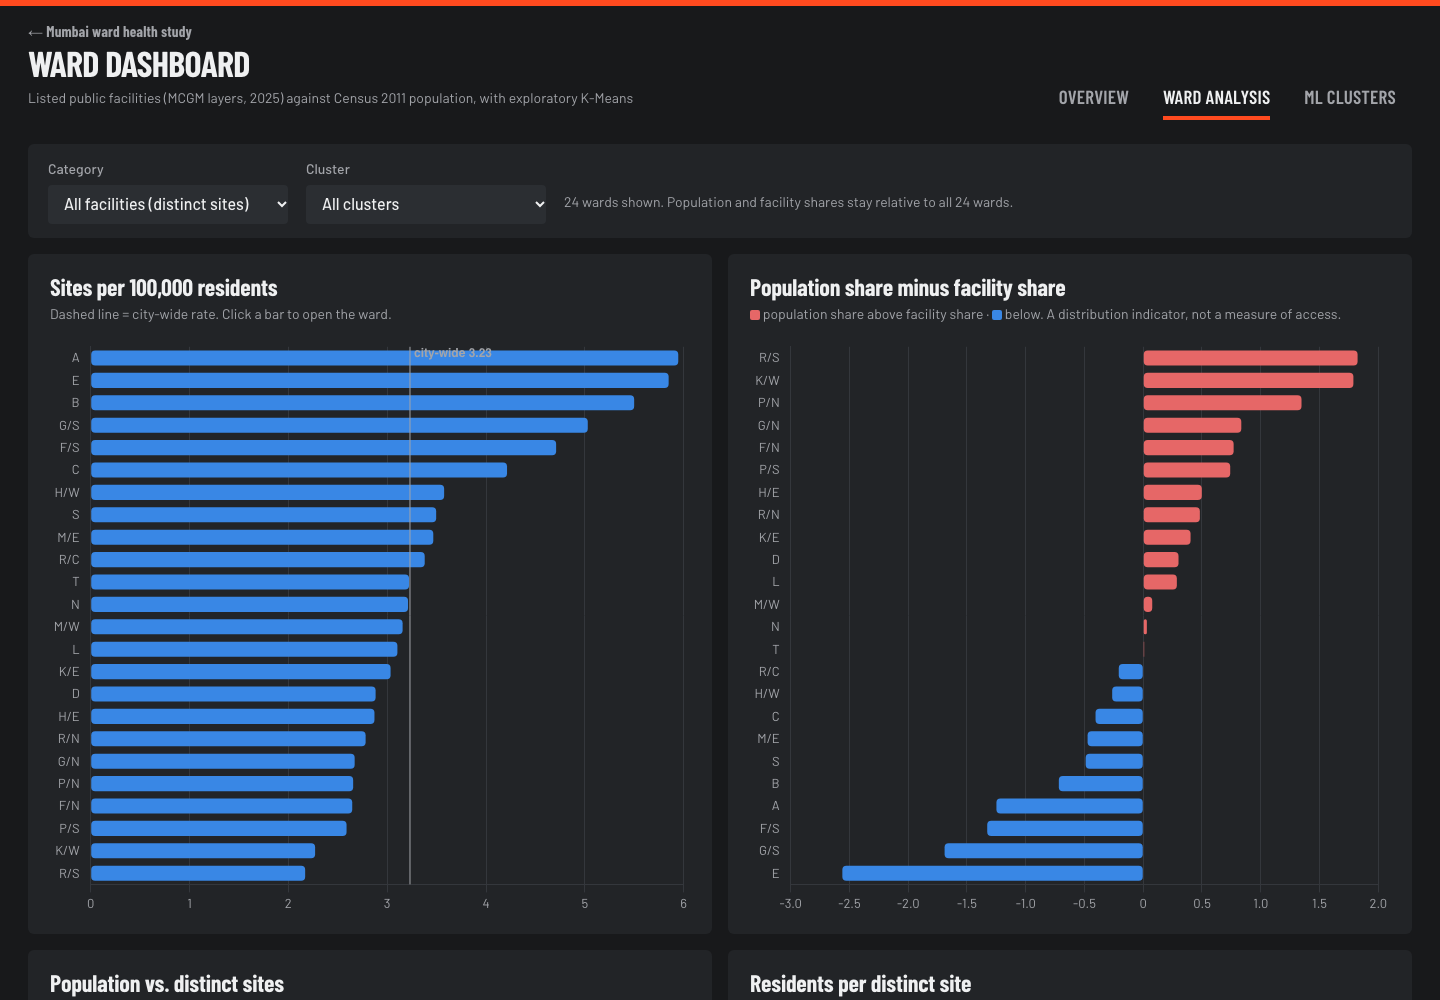

The page's visual inventory and layout, read from the dashboard file:
{"tool":"powerbi","page":{"name":"Mumbai facilities","canvas":[1280,720],"ordinal":3},"visuals":[{"type":"textbox","box":[0,0,140,720],"z":100},{"type":"textbox","box":[10,18,120,84],"z":200},{"type":"actionButton","box":[14,124,112,44],"z":300},{"type":"actionButton","box":[14,182,112,44],"z":400},{"type":"actionButton","box":[14,240,112,44],"z":500},{"type":"actionButton","box":[14,298,112,44],"z":600},{"type":"actionButton","box":[14,356,112,44],"z":700},{"type":"textbox","box":[150,10,1115,62],"z":900},{"type":"textbox","box":[150,72,1115,4],"z":1100},{"type":"slicer","fields":{"Values":["dim_category.category_label"]},"box":[150,84,470,74],"z":1200},{"type":"slicer","fields":{"Values":["dim_ward.ward_name"]},"box":[632,84,150,74],"z":1300},{"type":"card","title":"Sites","fields":{"Values":["fact_facility.Total Distinct Sites"]},"box":[794,84,108.8,74],"z":1400},{"type":"card","title":"Sites per 100k","fields":{"Values":["dim_ward.Sites per 100k"]},"box":[908.9,83.7,109.4,74],"z":1500},{"type":"card","title":"Hospitals list rows","fields":{"Values":["hospital_list.Hospitals Listed"]},"box":[1023.7,83.7,129.8,74],"z":1600},{"type":"card","title":"Beds listed","fields":{"Values":["hospital_list.Beds Listed"]},"box":[1156.2,84,108.8,74],"z":1700},{"type":"map","title":"Facility locations (coordinates rounded)","fields":{"Category":["fact_facility.facility_id"],"Series":["dim_category.category_label"],"X":["Avg(fact_facility.longitude)"],"Y":["Avg(fact_facility.latitude)"]},"box":[150,170,420,534],"z":1800},{"type":"clusteredBarChart","title":"Sites per 100k people by ward","fields":{"Category":["dim_ward.ward_name"],"Y":["dim_ward.Sites per 100k"]},"box":[582,170,335.5,534],"z":1900},{"type":"donutChart","title":"Facility records by category","fields":{"Category":["dim_category.category_label"],"Y":["fact_facility.Facility Records"]},"box":[929.5,170,335.5,220],"z":2000},{"type":"clusteredBarChart","title":"Hospitals list beds by ownership","fields":{"Category":["hospital_list.ownership_class"],"Y":["hospital_list.Beds Listed"]},"box":[929.5,402,335.5,302],"z":2100}]}

Visuals, with their boxes on the page's 1280x720 design canvas (x1, y1, x2, y2). These are canvas units, not pixel positions in the 1440x1000 screenshot, which may show the page scaled, cropped or inside an application window:
textbox: 0, 0, 140, 720
textbox: 10, 18, 130, 102
actionButton: 14, 124, 126, 168
actionButton: 14, 182, 126, 226
actionButton: 14, 240, 126, 284
actionButton: 14, 298, 126, 342
actionButton: 14, 356, 126, 400
textbox: 150, 10, 1265, 72
textbox: 150, 72, 1265, 76
slicer - dim_category.category_label: 150, 84, 620, 158
slicer - dim_ward.ward_name: 632, 84, 782, 158
"Sites" card: 794, 84, 903, 158
"Sites per 100k" card: 909, 84, 1018, 158
"Hospitals list rows" card: 1024, 84, 1154, 158
"Beds listed" card: 1156, 84, 1265, 158
"Facility locations (coordinates rounded)" map: 150, 170, 570, 704
"Sites per 100k people by ward" clusteredBarChart: 582, 170, 918, 704
"Facility records by category" donutChart: 930, 170, 1265, 390
"Hospitals list beds by ownership" clusteredBarChart: 930, 402, 1265, 704
